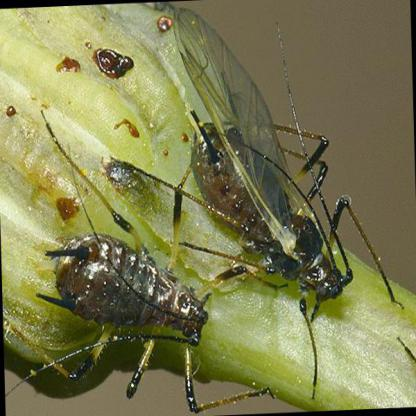uroleucon compositae: (174, 9, 398, 316), (36, 138, 247, 412)
